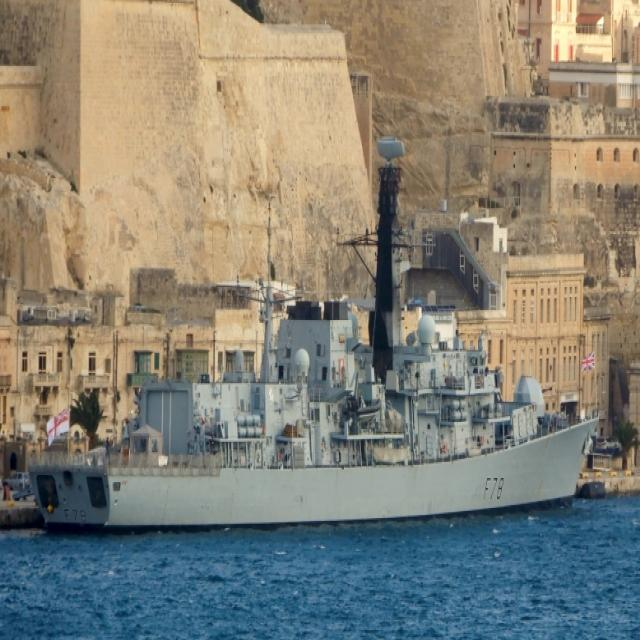Fragata: (23, 118, 604, 547)
